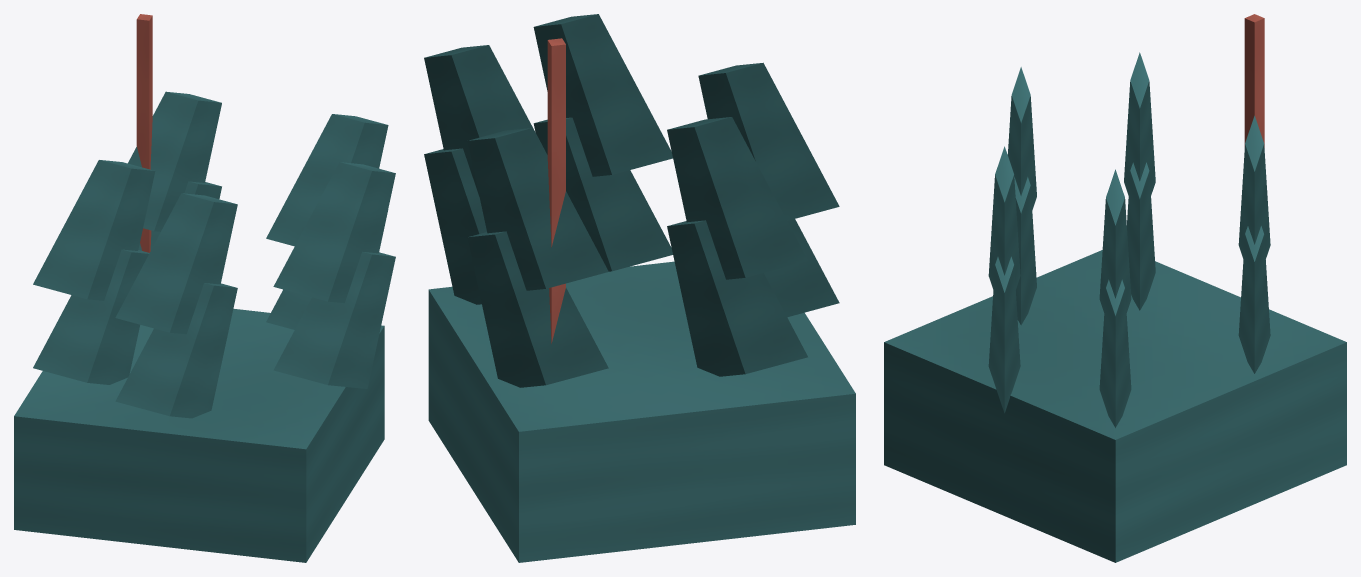
The model's file is atlas100-s031-a12.lod2.glb.
3 views of the same model, side by side, from view 1: azimuth 30°, elevation 25°; view 2: azimuth 150°, elevation 25°; view 3: azimuth 270°, elevation 25° (orthographic). The views are drawn at different scales.
Parts seen in each view (by area): view 1: atlas100-s031-a12:part-000, atlas100-s031-a12:part-006, atlas100-s031-a12:part-012, atlas100-s031-a12:part-015, atlas100-s031-a12:part-011, atlas100-s031-a12:part-005, atlas100-s031-a12:part-014, atlas100-s031-a12:part-009, atlas100-s031-a12:part-003, atlas100-s031-a12:part-007, atlas100-s031-a12:part-002, atlas100-s031-a12:part-008; view 2: atlas100-s031-a12:part-000, atlas100-s031-a12:part-015, atlas100-s031-a12:part-009, atlas100-s031-a12:part-014, atlas100-s031-a12:part-012, atlas100-s031-a12:part-008, atlas100-s031-a12:part-006, atlas100-s031-a12:part-011, atlas100-s031-a12:part-003, atlas100-s031-a12:part-002, atlas100-s031-a12:part-007, atlas100-s031-a12:part-005; view 3: atlas100-s031-a12:part-000, atlas100-s031-a12:part-011, atlas100-s031-a12:part-002, atlas100-s031-a12:part-008, atlas100-s031-a12:part-014, atlas100-s031-a12:part-009, atlas100-s031-a12:part-012, atlas100-s031-a12:part-003, atlas100-s031-a12:part-015, atlas100-s031-a12:part-006, atlas100-s031-a12:part-007, atlas100-s031-a12:part-005.
Part boxes in pixels (x1=…): atlas100-s031-a12:part-000: x1=14, y1=308, x2=384, y2=562; atlas100-s031-a12:part-006: x1=115, y1=193, x2=237, y2=334; atlas100-s031-a12:part-012: x1=273, y1=162, x2=395, y2=303; atlas100-s031-a12:part-015: x1=33, y1=160, x2=155, y2=300; atlas100-s031-a12:part-011: x1=273, y1=252, x2=395, y2=388; atlas100-s031-a12:part-005: x1=115, y1=283, x2=237, y2=418; atlas100-s031-a12:part-014: x1=33, y1=249, x2=149, y2=384; atlas100-s031-a12:part-009: x1=128, y1=91, x2=221, y2=231; atlas100-s031-a12:part-003: x1=266, y1=114, x2=388, y2=246; atlas100-s031-a12:part-007: x1=136, y1=14, x2=152, y2=252; atlas100-s031-a12:part-002: x1=266, y1=211, x2=387, y2=329; atlas100-s031-a12:part-008: x1=138, y1=181, x2=221, y2=250; atlas100-s031-a12:part-000: x1=428, y1=261, x2=855, y2=562; atlas100-s031-a12:part-015: x1=667, y1=117, x2=808, y2=279; atlas100-s031-a12:part-009: x1=467, y1=128, x2=608, y2=290; atlas100-s031-a12:part-014: x1=667, y1=220, x2=807, y2=376; atlas100-s031-a12:part-012: x1=533, y1=14, x2=672, y2=176; atlas100-s031-a12:part-008: x1=467, y1=231, x2=608, y2=387; atlas100-s031-a12:part-006: x1=698, y1=62, x2=839, y2=220; atlas100-s031-a12:part-011: x1=533, y1=117, x2=672, y2=271; atlas100-s031-a12:part-003: x1=424, y1=45, x2=547, y2=196; atlas100-s031-a12:part-002: x1=424, y1=148, x2=486, y2=304; atlas100-s031-a12:part-007: x1=547, y1=38, x2=565, y2=343; atlas100-s031-a12:part-005: x1=764, y1=219, x2=839, y2=317; atlas100-s031-a12:part-000: x1=884, y1=250, x2=1346, y2=562; atlas100-s031-a12:part-011: x1=988, y1=256, x2=1020, y2=413; atlas100-s031-a12:part-002: x1=1099, y1=279, x2=1131, y2=427; atlas100-s031-a12:part-008: x1=1238, y1=226, x2=1270, y2=373; atlas100-s031-a12:part-014: x1=1127, y1=162, x2=1155, y2=310; atlas100-s031-a12:part-009: x1=1238, y1=115, x2=1270, y2=258; atlas100-s031-a12:part-012: x1=988, y1=146, x2=1020, y2=289; atlas100-s031-a12:part-003: x1=1099, y1=169, x2=1131, y2=312; atlas100-s031-a12:part-015: x1=1124, y1=52, x2=1155, y2=195; atlas100-s031-a12:part-006: x1=1007, y1=67, x2=1036, y2=209; atlas100-s031-a12:part-007: x1=1244, y1=14, x2=1264, y2=147; atlas100-s031-a12:part-005: x1=1014, y1=177, x2=1036, y2=325.
Bounding box in the file's own units: 1.17 × 1.25 × 1.16.
Materials: 2 (2 with a texture image).
